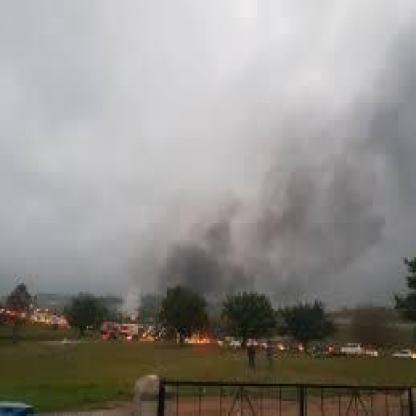fire: (180, 325, 222, 348)
smoke: (156, 228, 278, 296)
